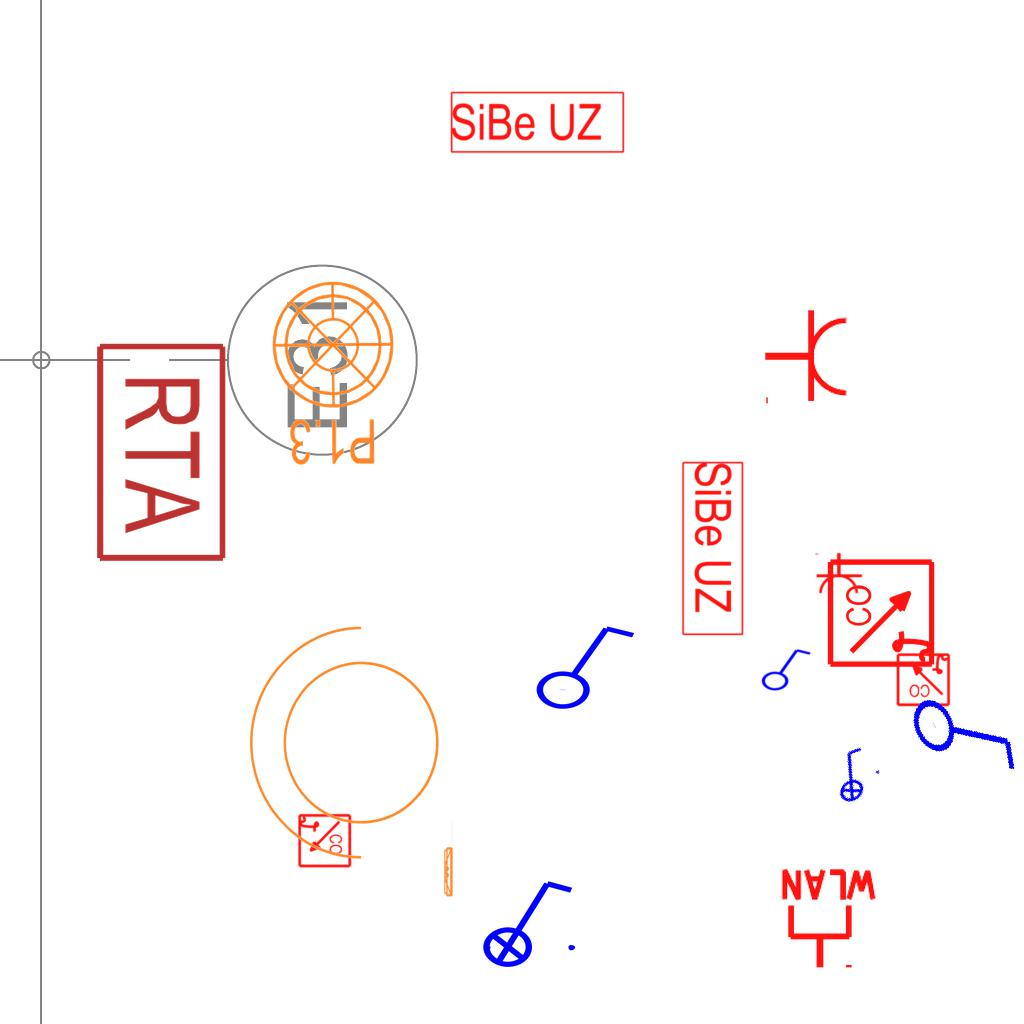Aufbaurundleuchte_LED_Treppenhaus: (258, 278, 397, 483)
Ausschalter: (898, 661, 1024, 803), (525, 616, 637, 712), (756, 644, 812, 692)
Ausschalter_beleuchtet: (469, 873, 581, 969), (814, 739, 888, 811)
ROA_Rauchmelder_optisch_mit_Signalgeber_(Sockelsirene): (826, 556, 939, 669), (895, 651, 951, 707), (296, 813, 352, 869)
Ruf-und_Abstelltaster: (92, 336, 230, 564)
Scheinwerfer_fuer_Alarmbeleuchtung: (239, 617, 464, 881)
Schukosteckdose_einfach: (763, 308, 850, 408), (813, 552, 863, 595)
Sicherheitsleuchte_Wandeinbau: (442, 820, 454, 899)
WLAN: (777, 867, 881, 972)
Zentrale_Sicherheitsbeleuchtung: (680, 460, 745, 638), (449, 90, 627, 155)
